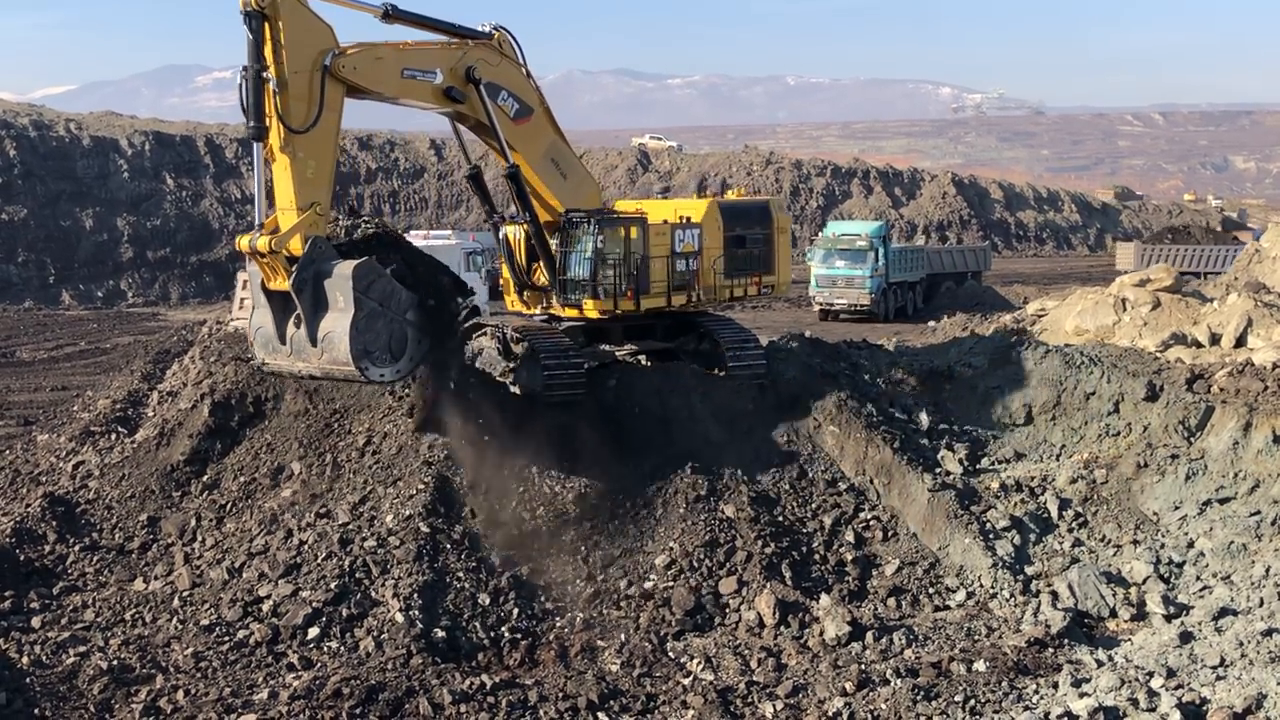full: (240, 237, 479, 394)
